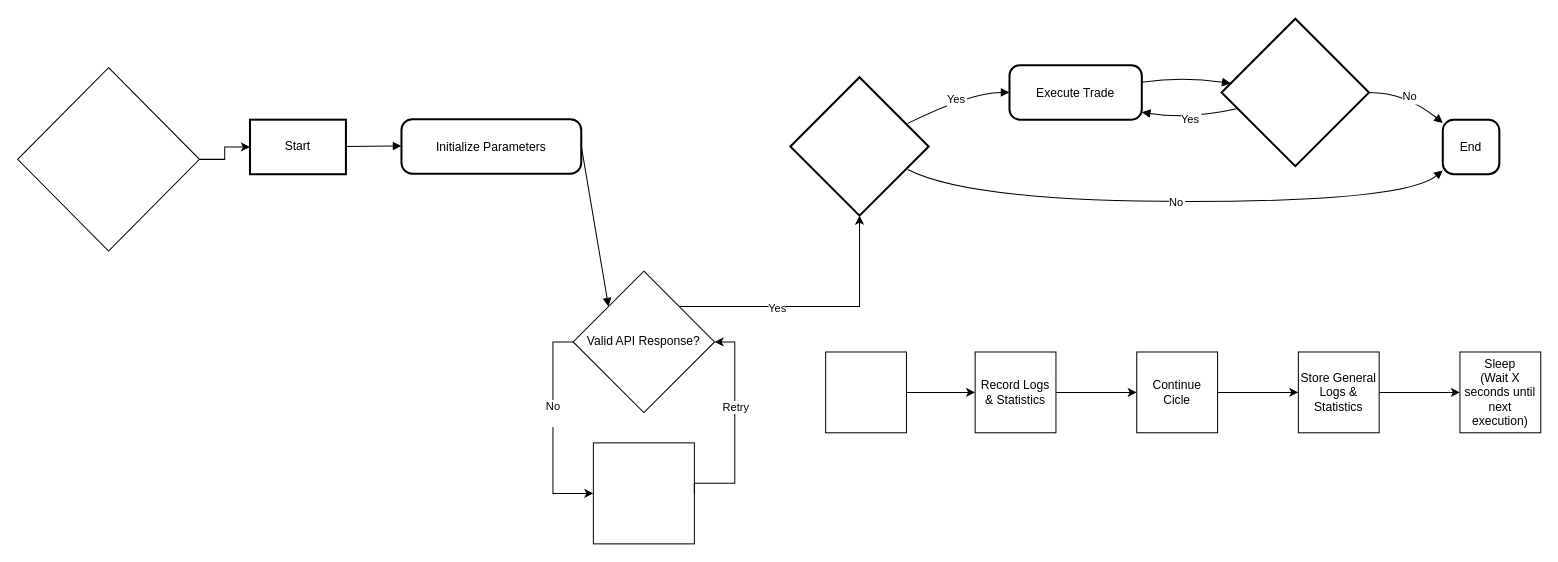
Some shapes in this 1558 by 562 pixel diagram are drawn without their labels. The shapes that lost their labels are listed below. From the top down, each one's centre as x and y in pixels, then its label:
At [1295,92]: "More Trades?".
At [108,159]: "Load Initial Config (API key, Trading Parameters, Strategy)".
At [859,146]: "Any Trades?".
At [865,392]: "Execute Order".
At [643,493]: "Retry X times (If error persist: Record Error and Terminate)".
